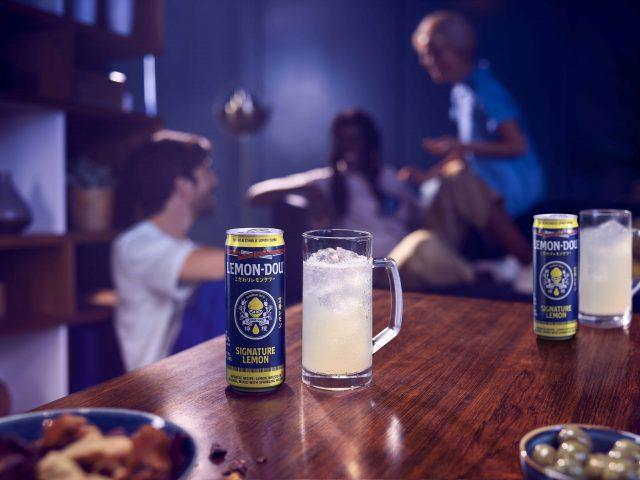can: (226, 228, 285, 392), (533, 213, 578, 339)
